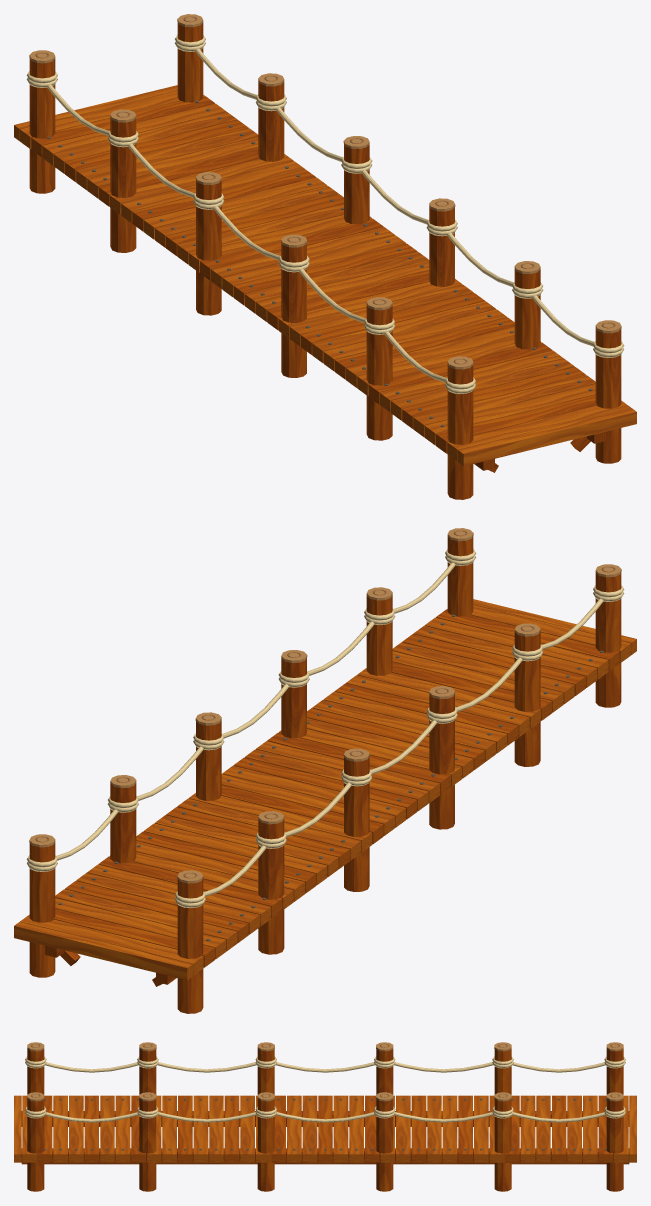
The model's file is wooden-bridge-8.gltf.
The picture shows the model from 3 angles, top to bottom: view 1: azimuth 30°, elevation 25°; view 2: azimuth 150°, elevation 25°; view 3: azimuth 270°, elevation 25°; orthographic projection. The views are drawn at different scales.
Parts seen in each view (by area): view 1: wooden-bridge-8; view 2: wooden-bridge-8; view 3: wooden-bridge-8.
Part boxes in pixels (x1,y1,x2,y2): wooden-bridge-8: [14, 14, 636, 499]; wooden-bridge-8: [14, 528, 636, 1013]; wooden-bridge-8: [14, 1042, 636, 1191].
Size of the model in its own units: 1.8 by 1.31 by 8.
Materials: 2 (1 with a texture image).
